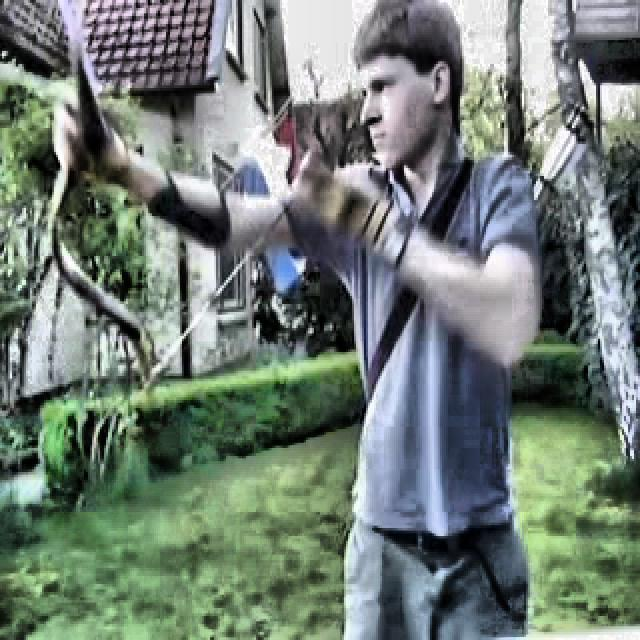P: (43, 6, 546, 634)
